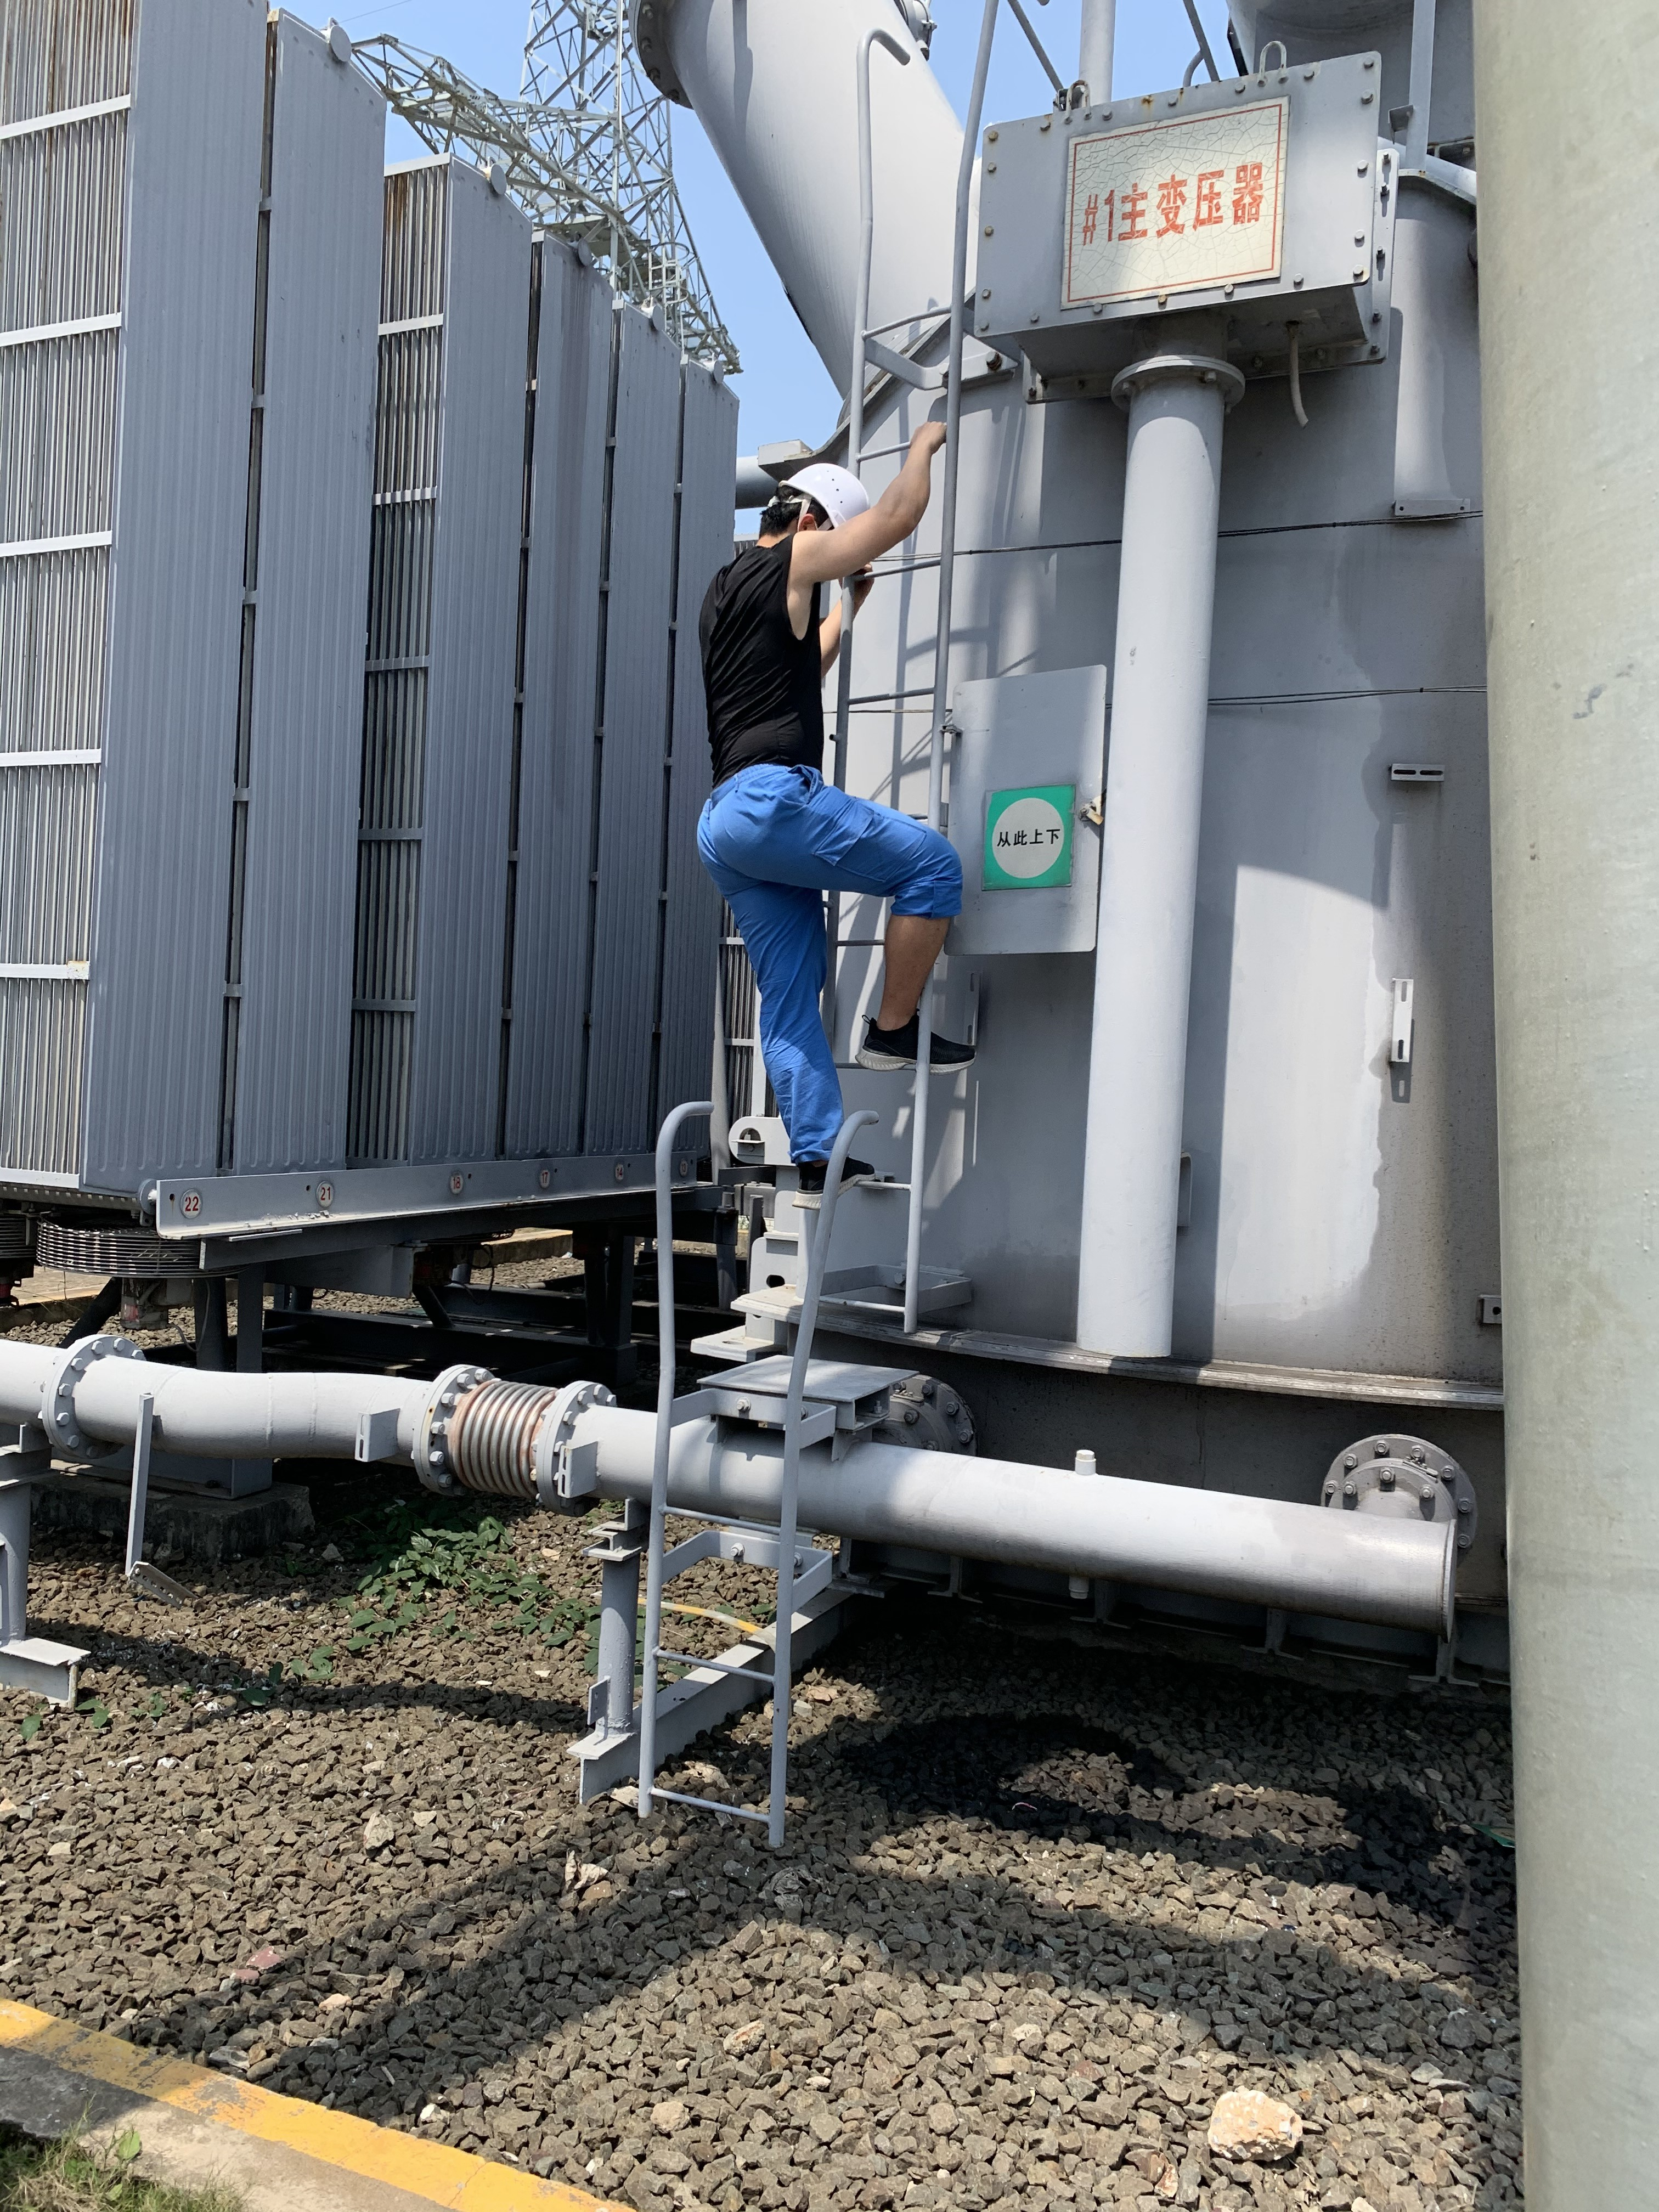downsuit: (699, 768, 955, 1157)
upcloth: (711, 531, 831, 752)
wrongbottom: (870, 885, 960, 1050)
